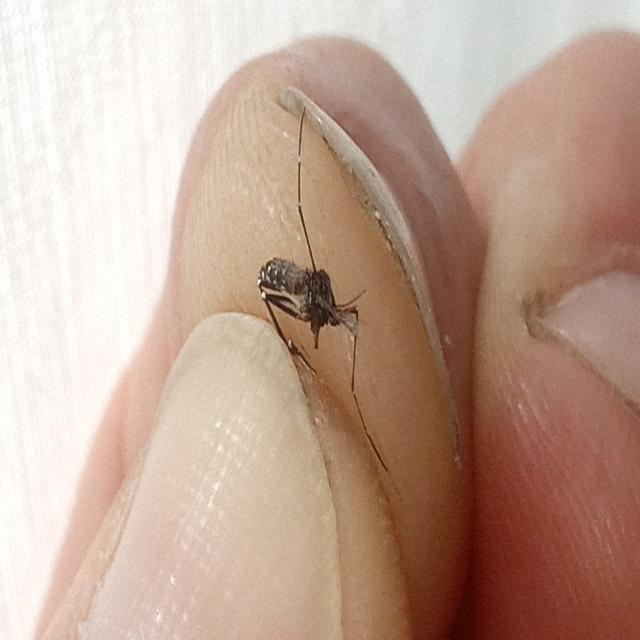albopictus: (250, 102, 390, 476)
